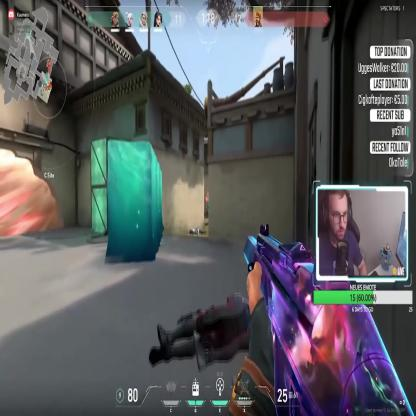enemy: (206, 192, 211, 216)
enemy_head: (207, 192, 209, 196)
